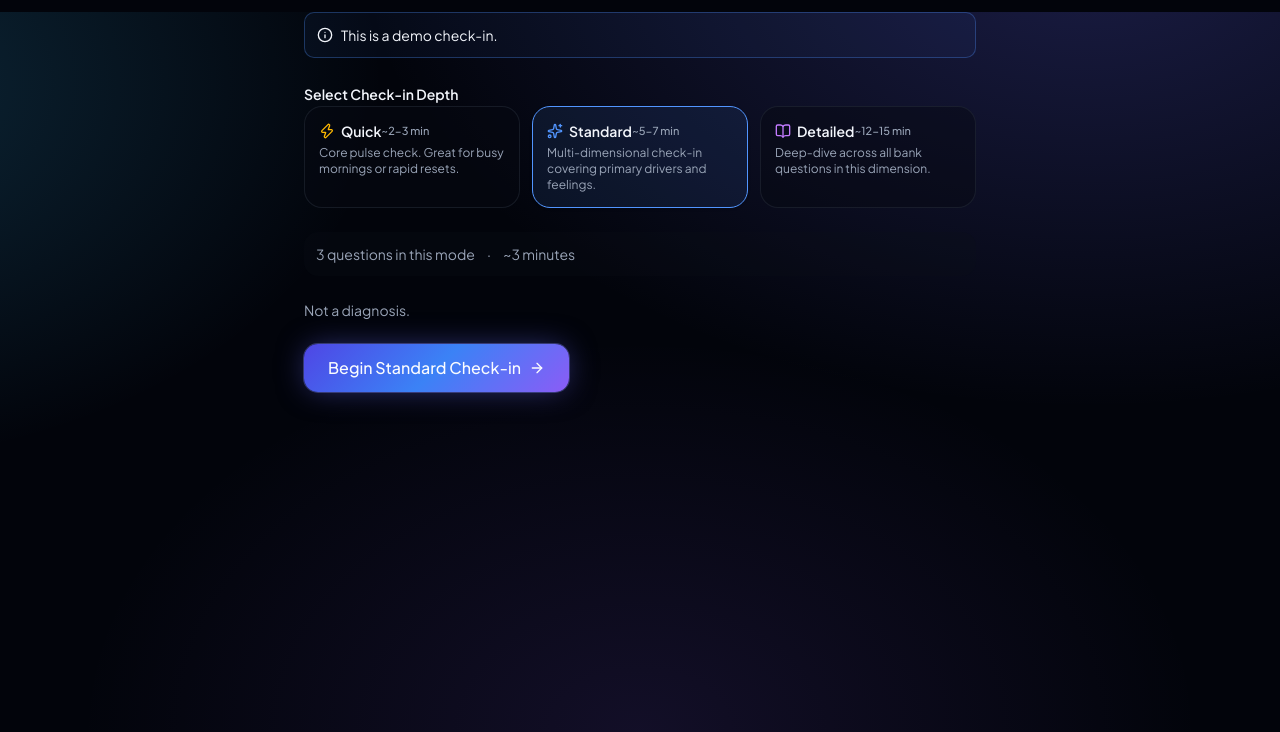
Test: AssessmentRunner › blocks progress until the required question is answered
Click the button "Begin Standard Check-in" at (436, 368), box [304,344,569,392]
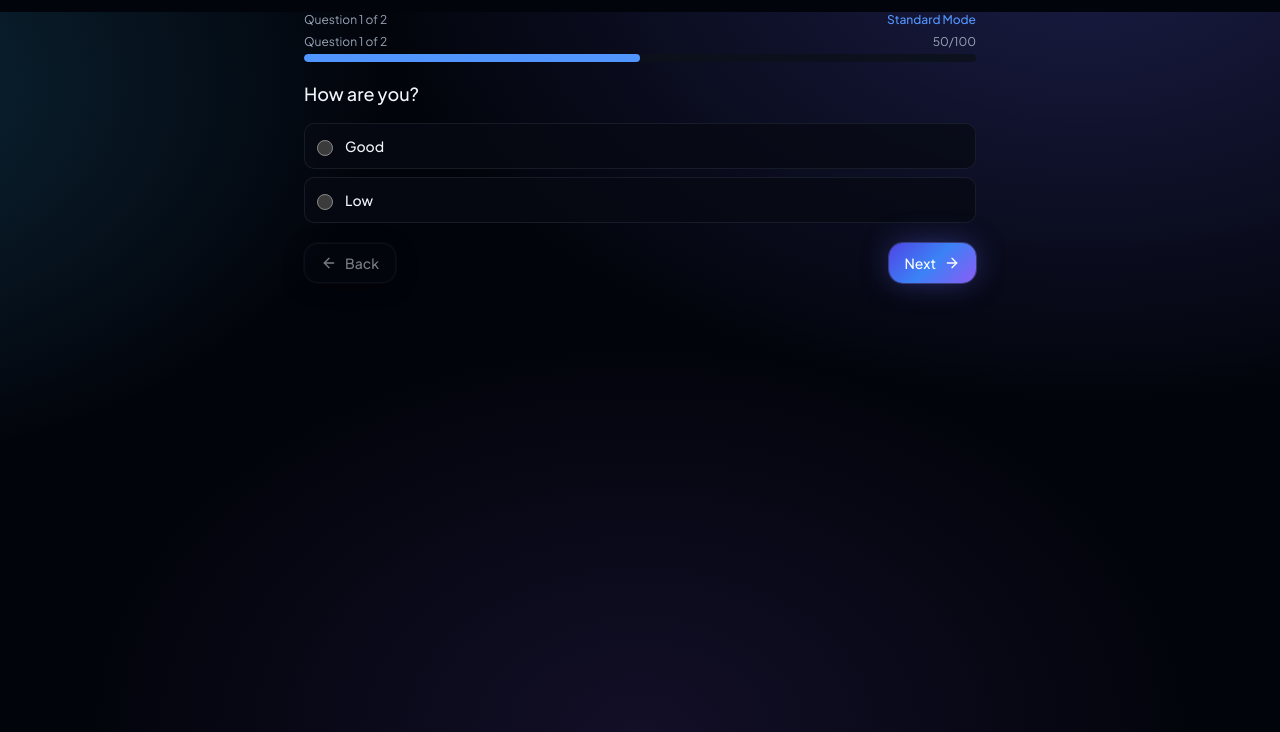
Click the button "Next" at (932, 263), box [888,243,976,283]
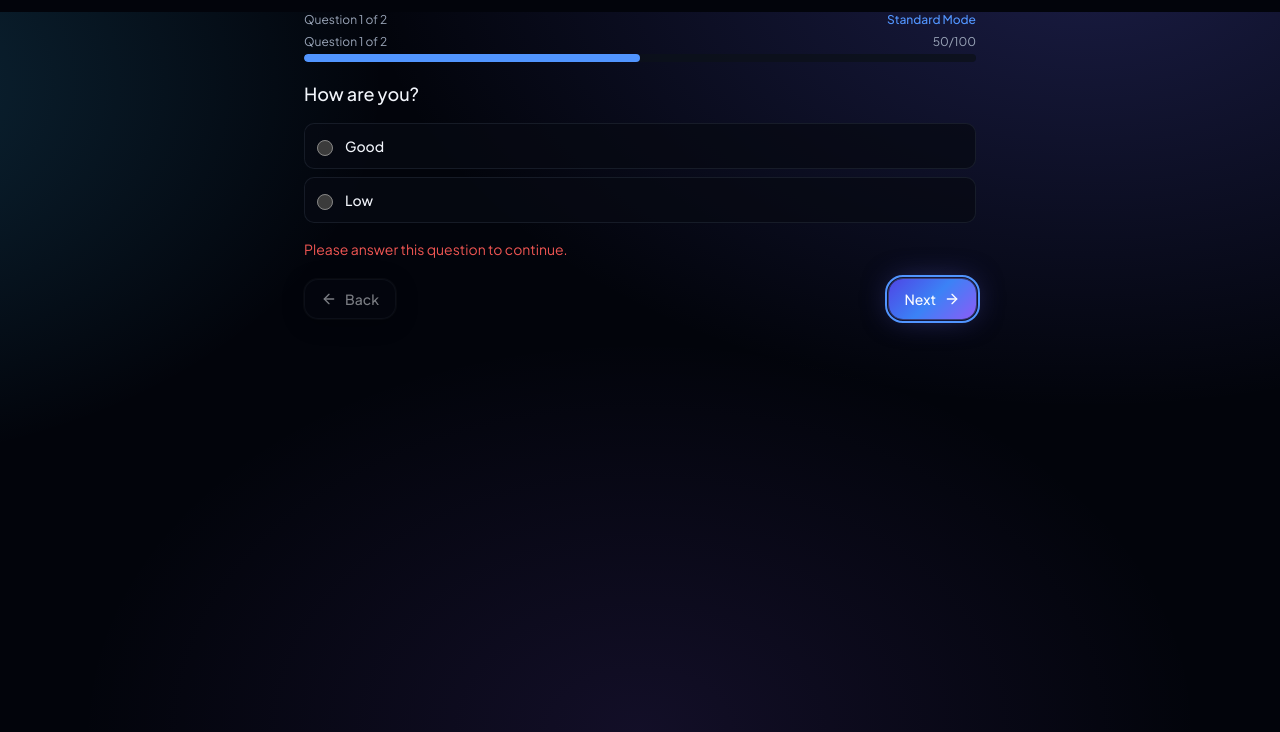
Now the message shows "Please answer", box [304,240,568,258]
